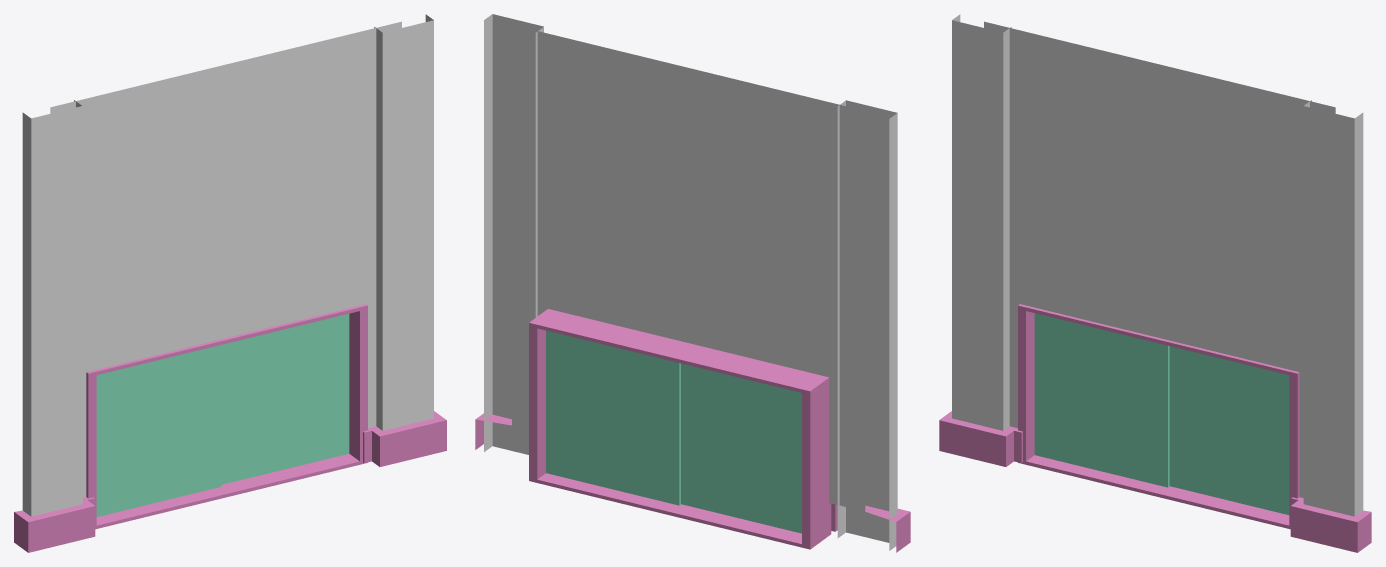
The model's file is Wall3Glass.fbx.
3 renders of one model, left to right at view 1: azimuth 30°, elevation 25°; view 2: azimuth 150°, elevation 25°; view 3: azimuth 330°, elevation 25°, orthographic.
Visible parts, largest first — view 1: Cube.010, Cube.008; view 2: Cube.010, Cube.008; view 3: Cube.010, Cube.008.
Boxes of the visible parts, x1=… form: Cube.010: x1=14, y1=14, x2=446, y2=552; Cube.008: x1=96, y1=345, x2=221, y2=516; Cube.010: x1=475, y1=14, x2=910, y2=552; Cube.008: x1=681, y1=363, x2=801, y2=533; Cube.010: x1=939, y1=14, x2=1371, y2=552; Cube.008: x1=1034, y1=313, x2=1169, y2=487.
Bounding box in the file's own units: 7.14 × 7.03 × 0.896.
